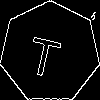T: (25, 27, 65, 79)
